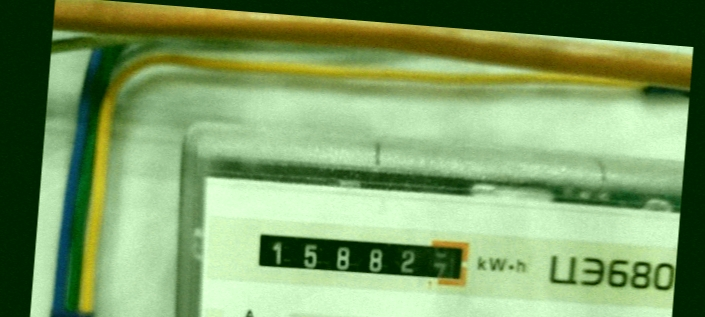1: (269, 238, 285, 264)
2: (399, 247, 415, 272)
5: (301, 240, 319, 267)
7: (431, 257, 447, 277)
8: (333, 244, 351, 271), (367, 245, 383, 271)
screen: (241, 215, 479, 297)
